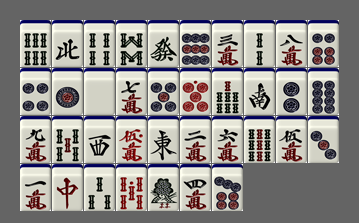0m: (116, 116, 147, 163)
0p: (180, 68, 211, 115)
0s: (116, 164, 147, 211)
1m: (20, 164, 51, 211)
1p: (52, 68, 83, 115)
1s: (148, 164, 179, 211)
1z: (148, 116, 179, 163)
2m: (180, 116, 211, 163)
2p: (276, 68, 307, 115)
2s: (244, 20, 275, 67)
2z: (244, 68, 275, 115)
3m: (212, 20, 243, 67)
3p: (308, 116, 339, 163)
3s: (84, 164, 115, 211)
3z: (84, 116, 115, 163)
4m: (180, 164, 211, 211)
4p: (20, 68, 51, 115)
4s: (84, 20, 115, 67)
4z: (52, 20, 83, 67)
5m: (276, 116, 307, 163)
5p: (148, 68, 179, 115)
5s: (52, 116, 83, 163)
5z: (84, 68, 115, 115)
6m: (212, 116, 243, 163)
6p: (308, 20, 339, 67)
6s: (20, 20, 51, 67)
6z: (148, 20, 179, 67)
7m: (116, 68, 147, 115)
7p: (212, 164, 243, 211)
7s: (212, 68, 243, 115)
7z: (52, 164, 83, 211)
8m: (276, 20, 307, 67)
8p: (308, 68, 339, 115)
8s: (116, 20, 147, 67)
9m: (20, 116, 51, 163)
9p: (180, 20, 211, 67)
9s: (244, 116, 275, 163)
